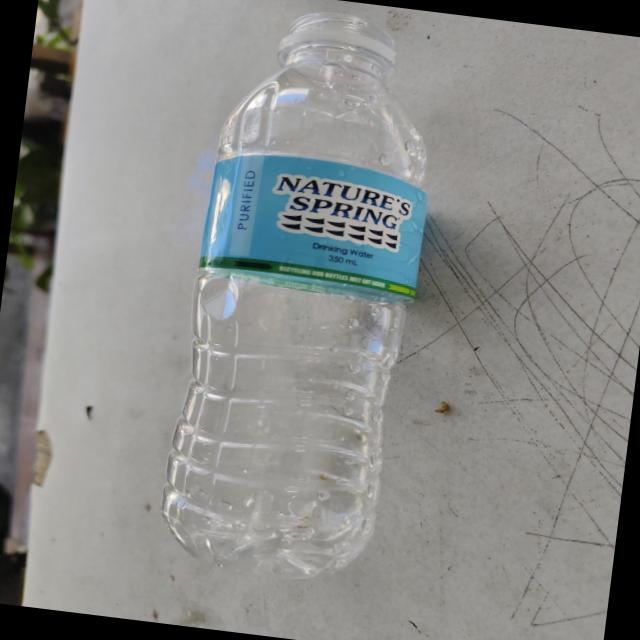Bottle: (161, 12, 425, 578)
